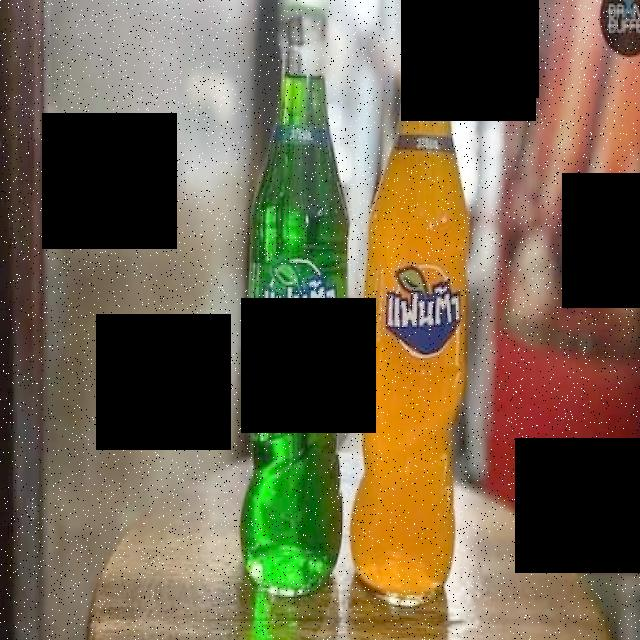glass-bottle: (250, 1, 466, 610)
